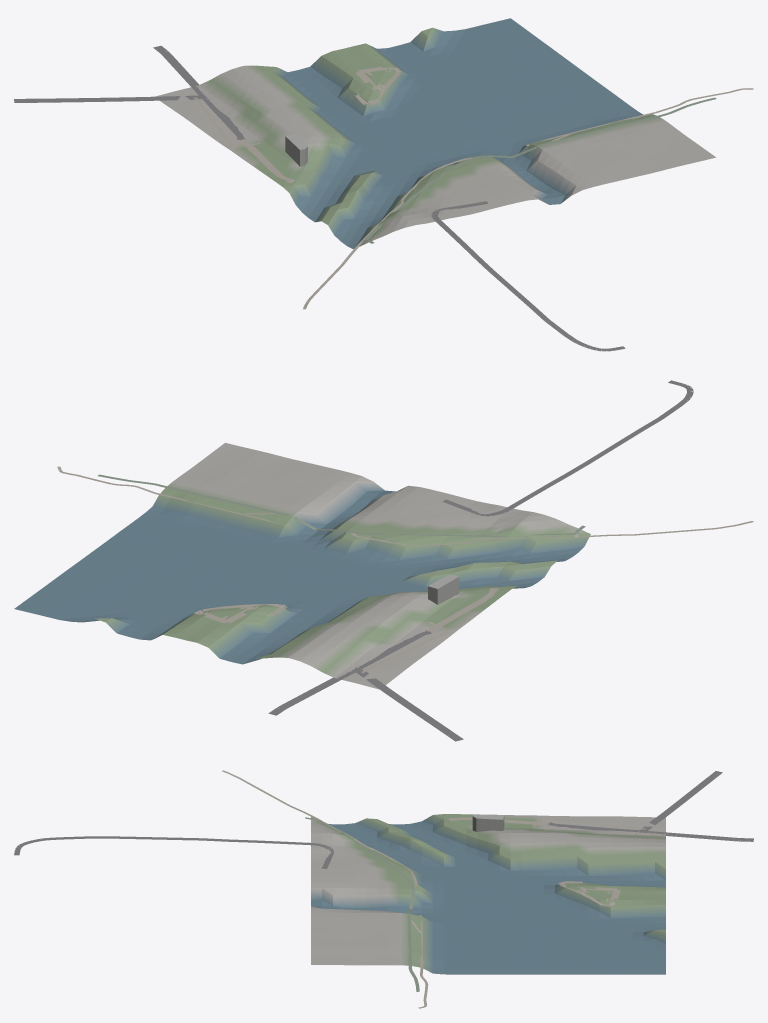
Rendered from tile_-1_5.glb.
3 views of the same model, one above another, from view 1: azimuth 30°, elevation 25°; view 2: azimuth 150°, elevation 25°; view 3: azimuth 270°, elevation 25° (orthographic). The views are drawn at different scales.
Parts seen in each view (by area): view 1: terrain, roads; view 2: terrain, roads, buildings; view 3: terrain, roads, buildings.
Boxes of the visible parts, bbox=[...] form: terrain: bbox=[155, 18, 715, 249]; roads: bbox=[14, 45, 753, 351]; terrain: bbox=[14, 443, 590, 689]; roads: bbox=[57, 380, 753, 741]; buildings: bbox=[428, 575, 459, 604]; terrain: bbox=[311, 814, 665, 974]; roads: bbox=[14, 770, 753, 1008]; buildings: bbox=[472, 814, 504, 831].
Bounding box in the file's own units: 408 × 21.67 × 533.
